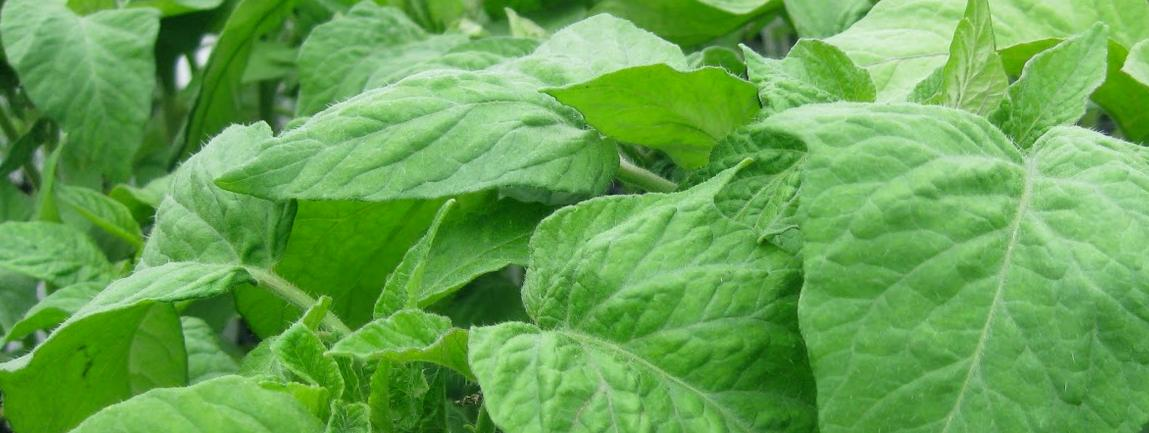Tomato leaf: (792, 55, 1149, 433), (224, 0, 670, 205)
